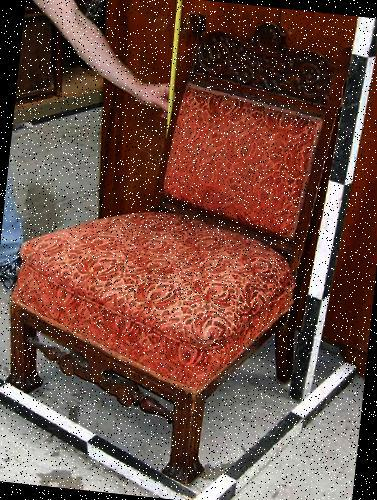Silla: (0, 1, 355, 491)
